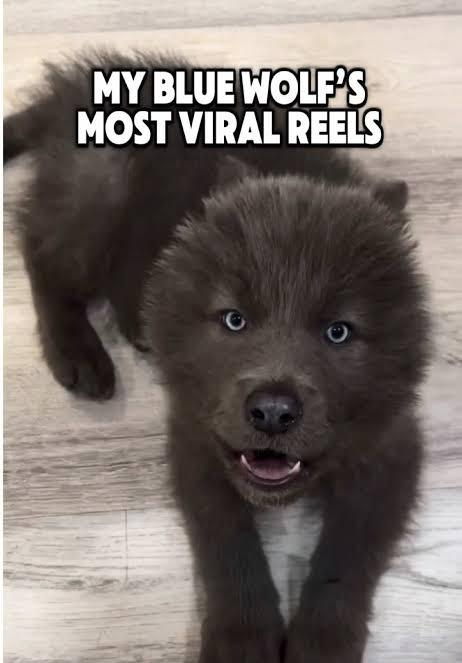puppy-dog: (3, 43, 436, 663)
